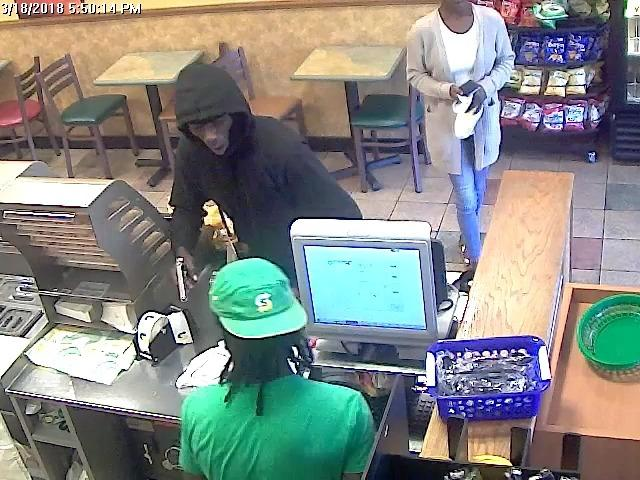weapon: (161, 252, 203, 304)
